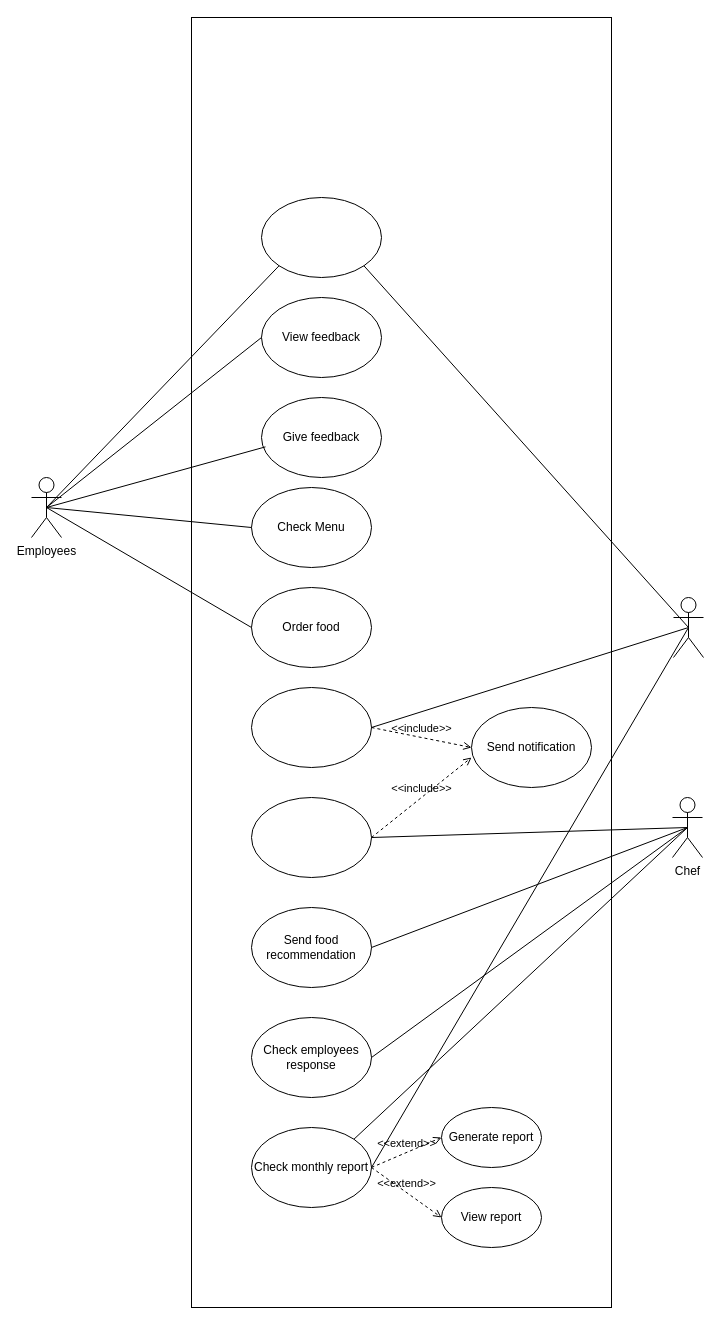
This 723x1325 diagram has some shape labels left out. The box of each missing label's shape, as (x1, y1, x2, y2) in pixels:
Admin: (672, 596, 704, 658)
Authentication: (260, 196, 382, 278)
Manage Menu: (250, 686, 372, 768)
Roll out Item: (250, 796, 372, 878)
